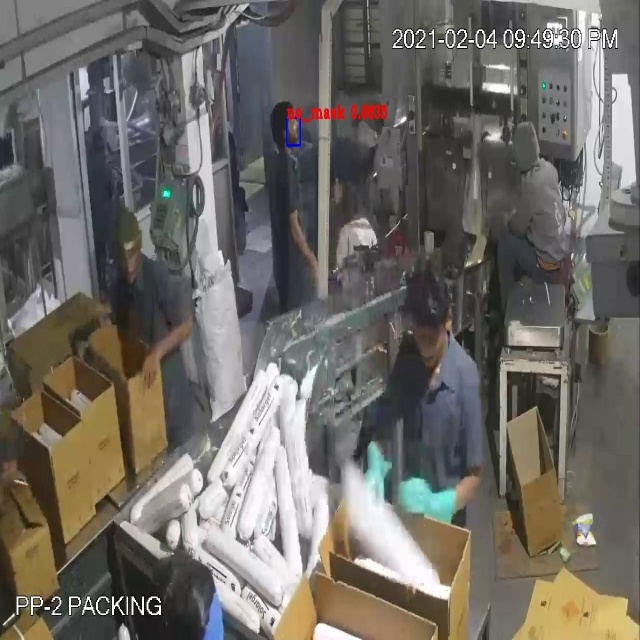Guantes: (395, 463, 468, 532), (358, 425, 396, 523)
Sin_guantes: (136, 307, 202, 394), (282, 204, 327, 285)
